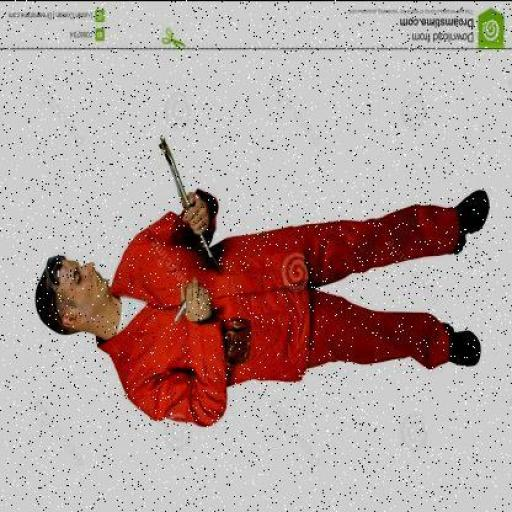person: (22, 172, 499, 425)
safety_shoe: (436, 312, 488, 378), (444, 187, 490, 259)
